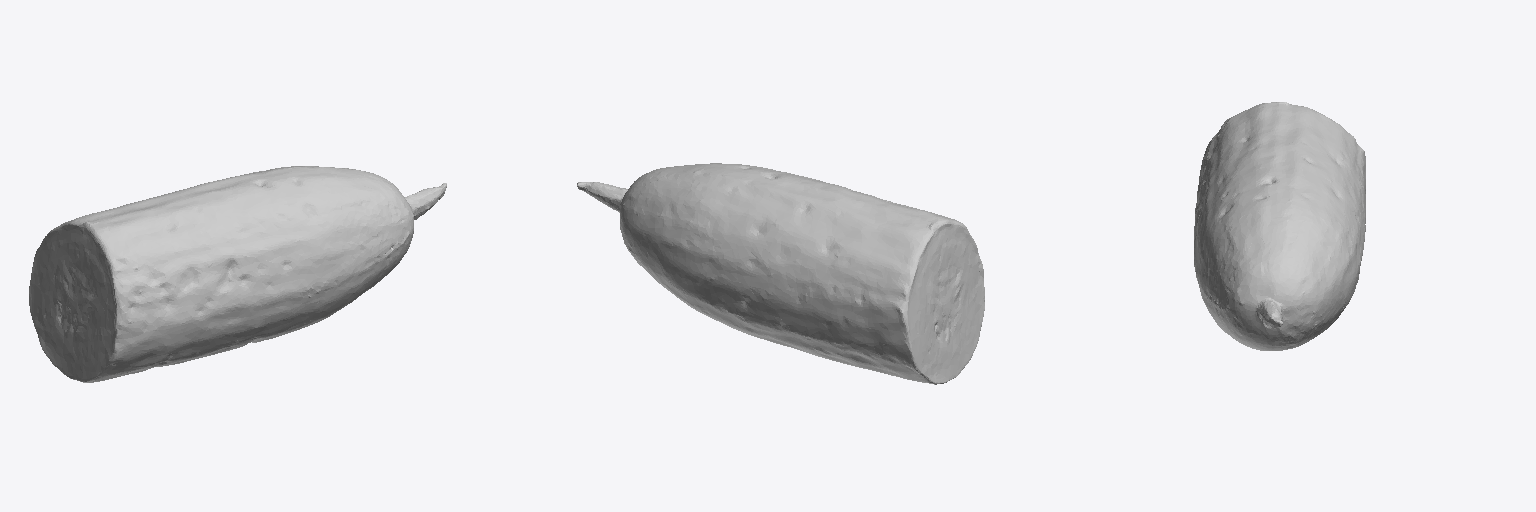
Rendered from cucumber LP gotov.obj.
3 renders of one model, left to right at view 1: azimuth 30°, elevation 25°; view 2: azimuth 150°, elevation 25°; view 3: azimuth 270°, elevation 25°, orthographic.
Parts seen in each view (by area): view 1: cucumber_LP; view 2: cucumber_LP; view 3: cucumber_LP.
Part boxes in pixels (bbox=[...]): cucumber_LP: bbox=[29, 166, 446, 382]; cucumber_LP: bbox=[577, 163, 984, 384]; cucumber_LP: bbox=[1194, 102, 1365, 350].
Bounding box in the file's own units: 0.0748 × 0.029 × 0.0294.